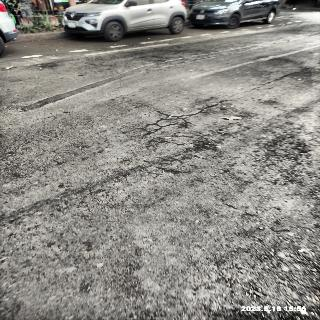crack: (136, 92, 235, 134)
